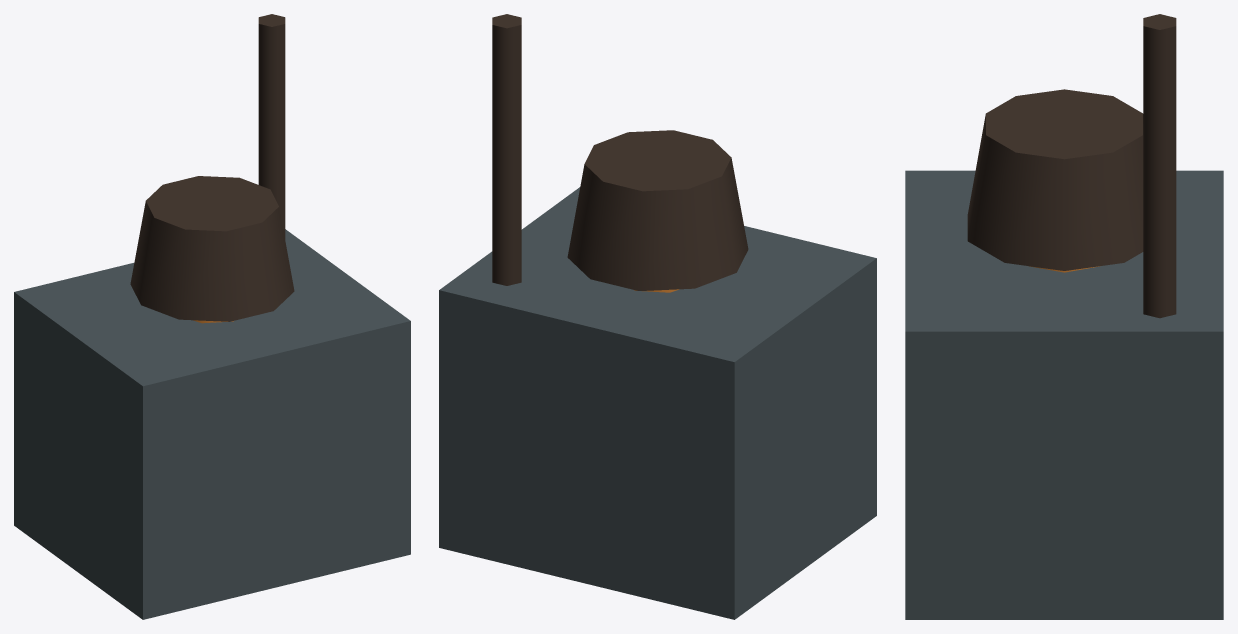
File: living_stove.glb
The picture shows the model from 3 angles, left to right: view 1: azimuth 30°, elevation 25°; view 2: azimuth 150°, elevation 25°; view 3: azimuth 270°, elevation 25°; orthographic projection. The views are drawn at different scales.
Visible parts, largest first — view 1: sw5e_int_living_stove; view 2: sw5e_int_living_stove; view 3: sw5e_int_living_stove.
Boxes of the visible parts, x1=… form: sw5e_int_living_stove: x1=14, y1=14, x2=410, y2=619; sw5e_int_living_stove: x1=439, y1=14, x2=876, y2=619; sw5e_int_living_stove: x1=905, y1=14, x2=1223, y2=619.
Size of the model in its own units: 0.6 by 1 by 0.5.
